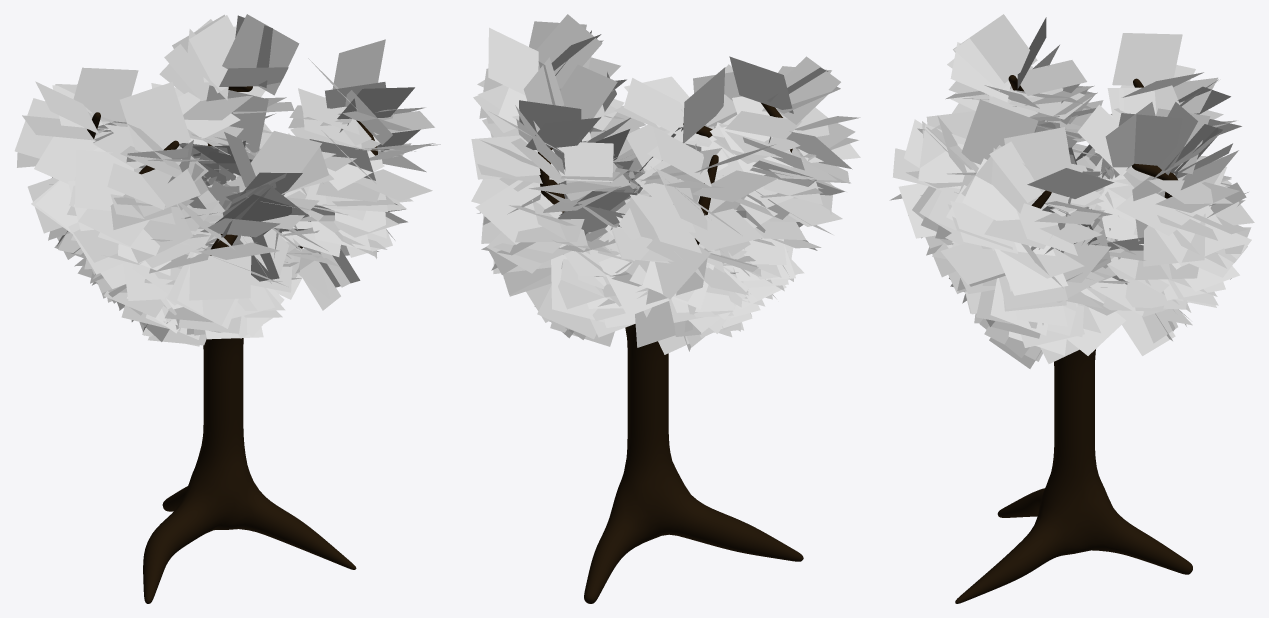
Rendered from What the Fuck2.fbx.
The picture shows the model from 3 angles, left to right: view 1: azimuth 30°, elevation 25°; view 2: azimuth 150°, elevation 25°; view 3: azimuth 270°, elevation 25°; orthographic projection. The views are drawn at different scales.
Parts seen in each view (by area): view 1: Cube|Plane|Dupli|; view 2: Cube|Plane|Dupli|; view 3: Cube|Plane|Dupli|.
Part boxes in pixels (x1,y1,x2,y2): Cube|Plane|Dupli|: (14,14,440,603); Cube|Plane|Dupli|: (471,14,860,603); Cube|Plane|Dupli|: (889,14,1254,603).
Size of the model in its own units: 995 by 1328 by 874.
